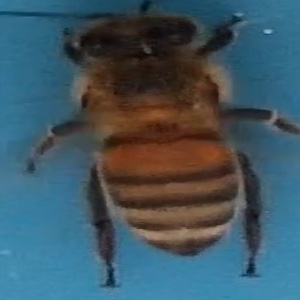bee: (20, 5, 290, 292)
